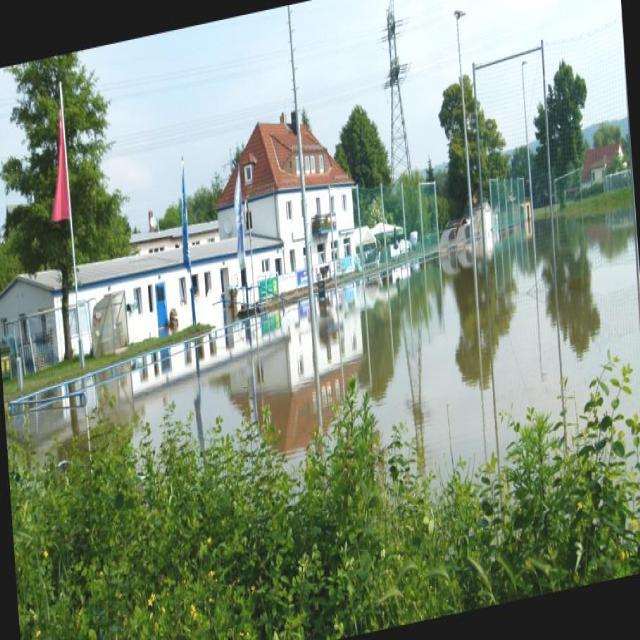flood: (0, 203, 639, 545)
